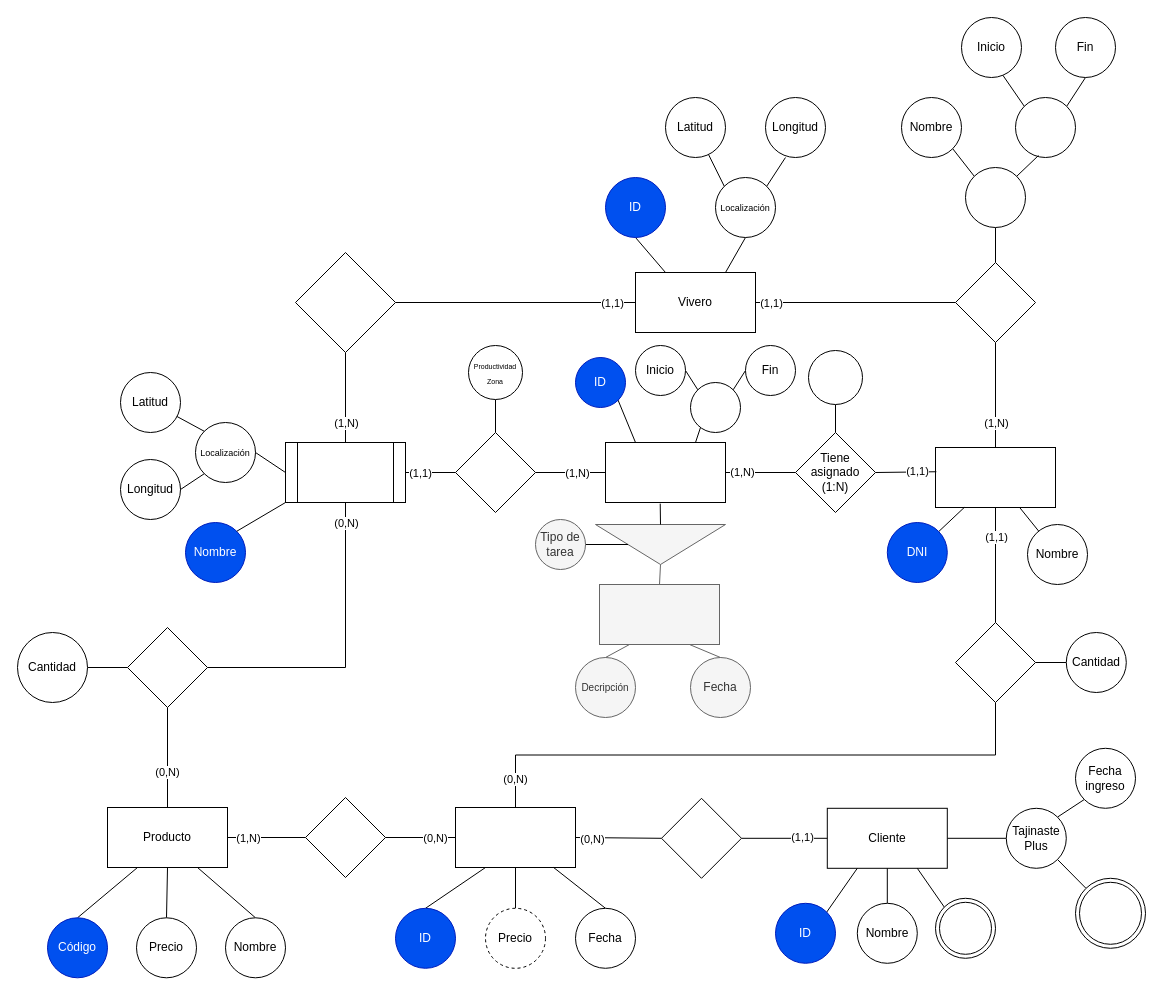
The diagram is 1163 pixels wide and 996 high, and some of its shapes have lost their labels. The shapes that lost their labels are listed below. From the top down, each one's centre as x and y in pixels, then its label:
the point at 1045,127: Periodo
the point at 995,197: Puesto
the point at 345,302: E Pertenece (1:N)
the point at 995,302: Asignado (1:N)
the point at 835,377: Productividad Empleado
the point at 715,407: Plazo
the point at 345,472: Zona
the point at 495,472: Está asignada (1:N)
the point at 665,472: Tarea
the point at 995,477: Empleado
the point at 659,614: Mantenimiento
the point at 167,667: Tiene (N:M)
the point at 995,662: Gestiona (1:N)
the point at 345,837: Incluye (N:M)
the point at 515,837: Pedido
the point at 701,837: Realiza (1:N)
the point at 965,927: Correo
the point at 1110,912: Bonificaciones
